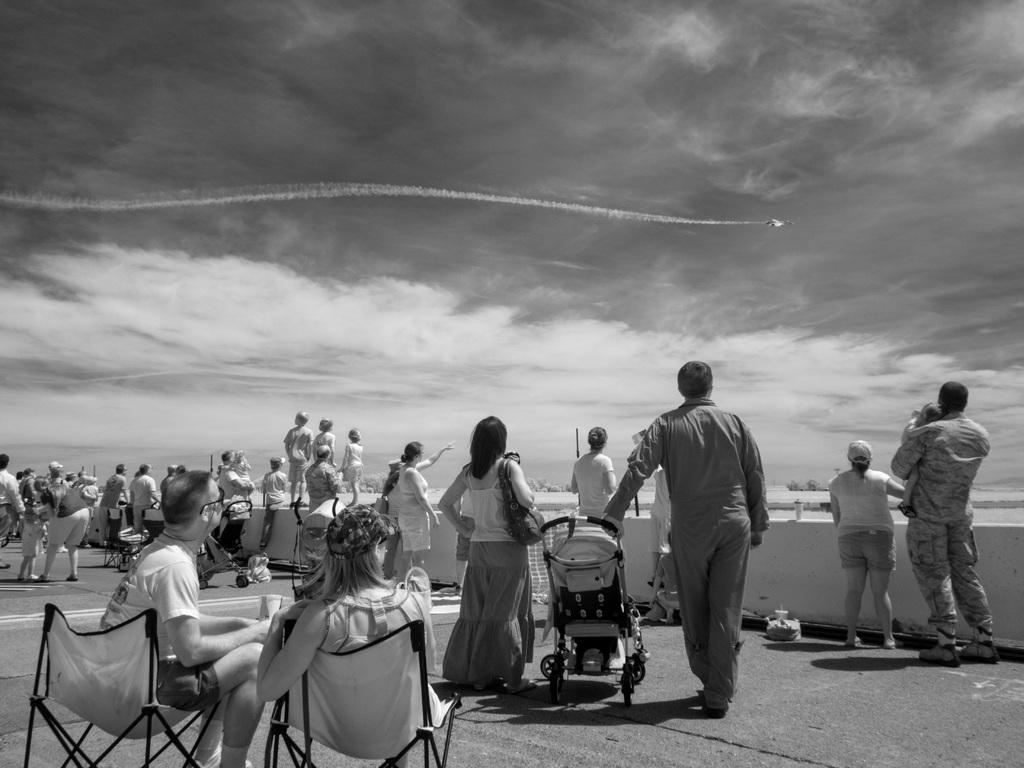Chair: (20, 601, 221, 767), (260, 622, 470, 767)
